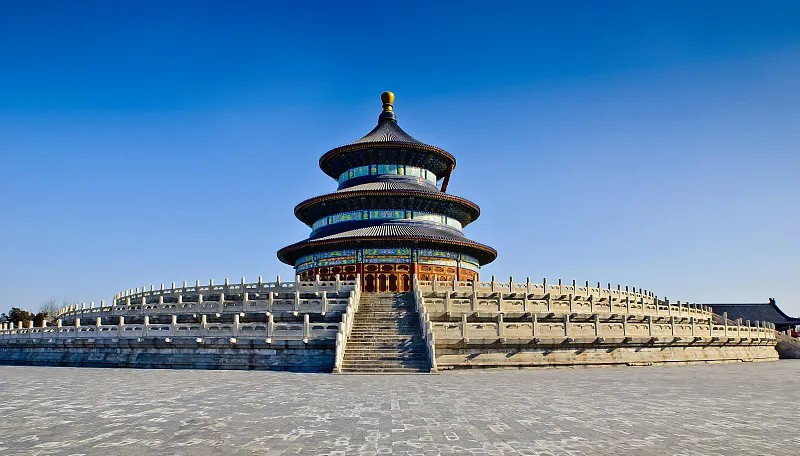Heaven: (276, 91, 496, 287)
